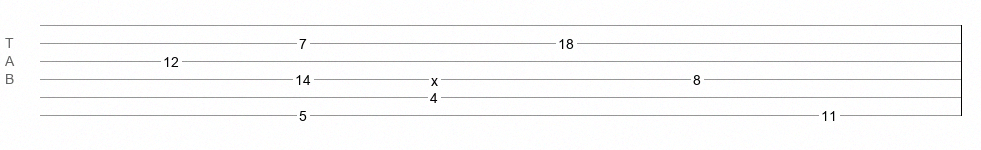11: (821, 108, 837, 118)
12: (163, 54, 179, 64)
14: (295, 72, 311, 82)
18: (558, 36, 574, 46)
4: (430, 90, 438, 100)
5: (299, 108, 307, 118)
7: (299, 36, 307, 46)
8: (693, 72, 701, 82)
x: (431, 73, 438, 81)
